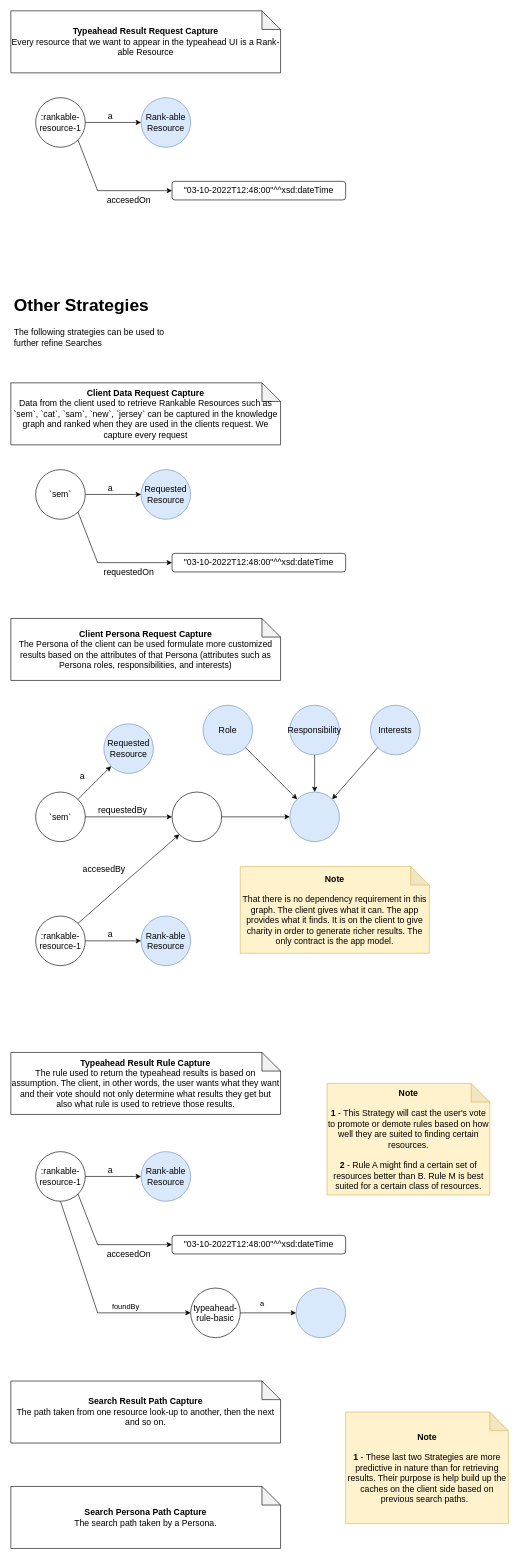
This 520x1559 diagram has some shape labels left out. Here are the shapes that lost their labels. From the top down, the centre of each, then its label:
point 196,816: stardog solutions architect (rafa)
point 314,816: Persona
point 320,1312: Rule
